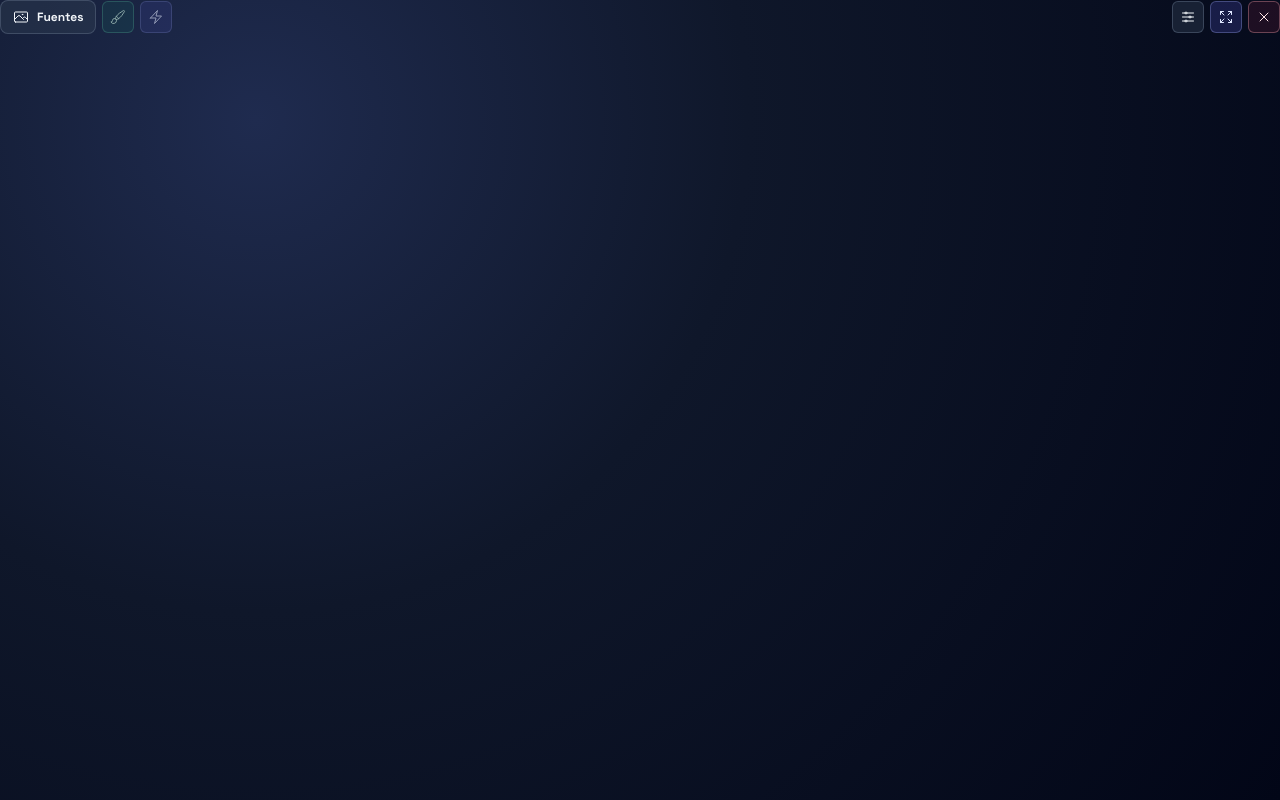
Test: MonitorControls › bloquea selector nativo cuando hay fullscreen activo
The image size is (1280, 800).
Click the button with test id "monitor-open-source-modal".
click(48, 17)  # box [0,0,96,34]
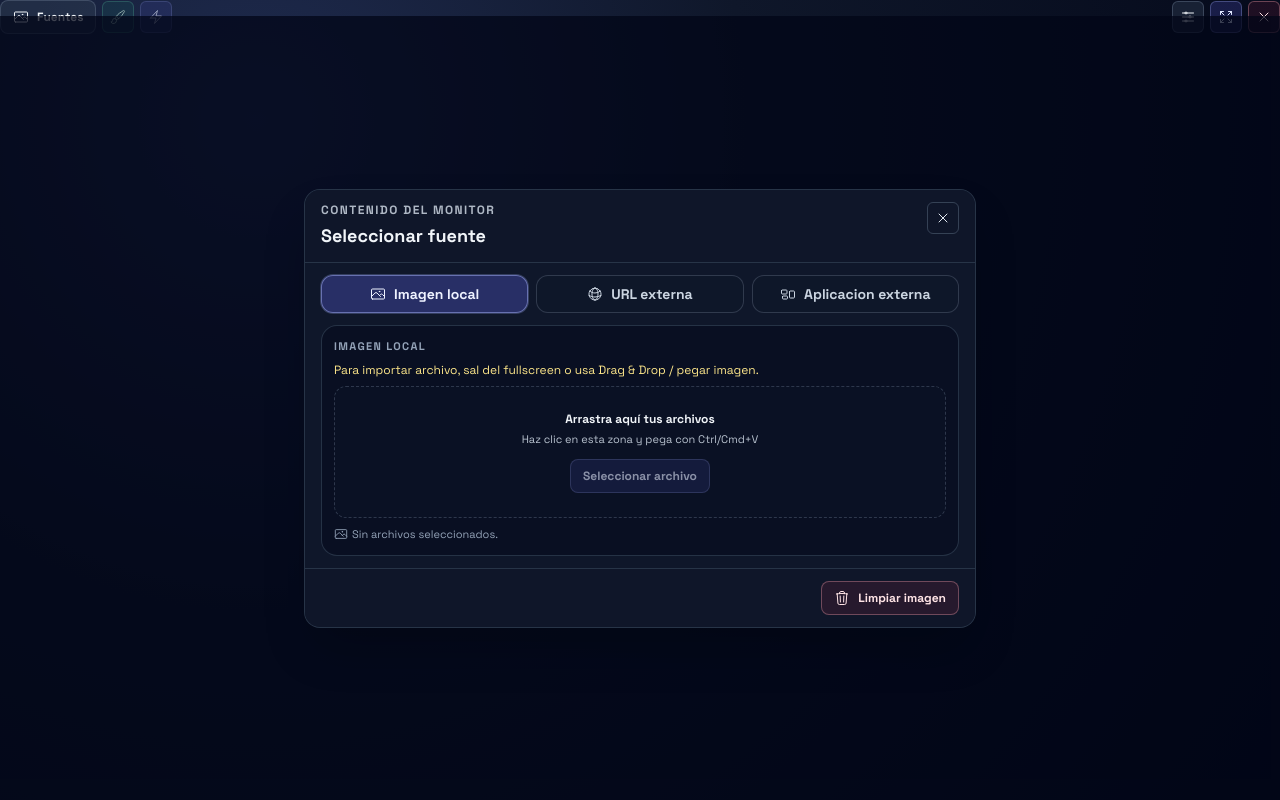
Check: the button with test id "monitor-image-select-button" is disabled, box [570,459,710,493]
Check: the text with test id "monitor-file-import-blocked-feedback" shows "sal del fullscreen", box [334,362,759,378]
